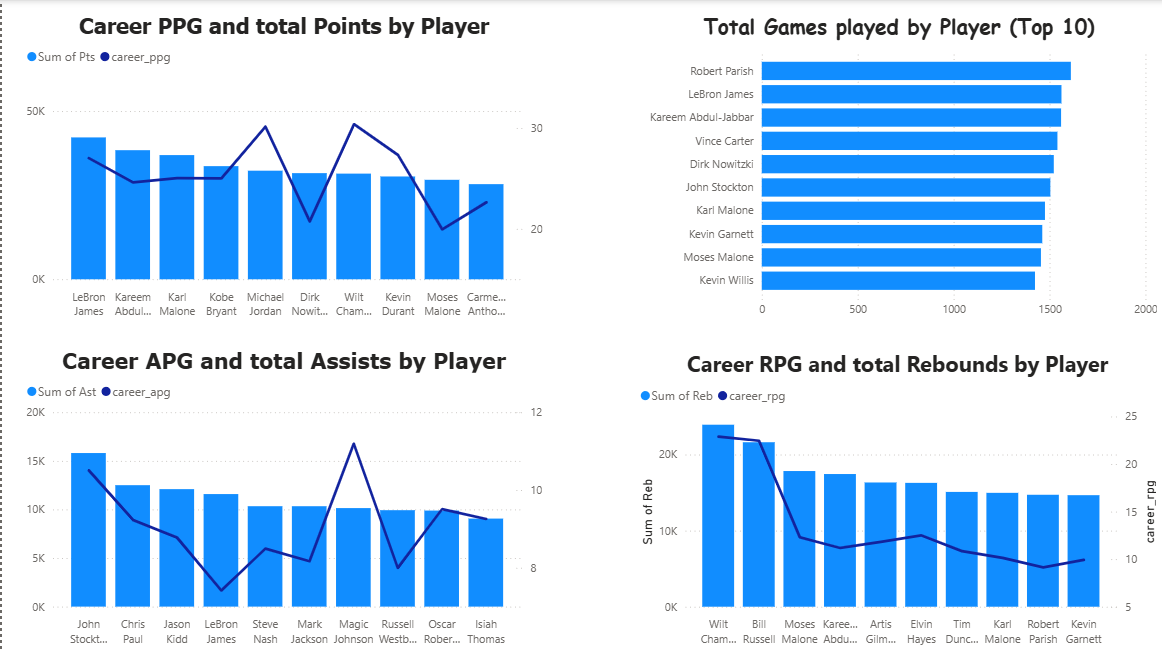

This screenshot's page, from the dashboard's own definition file:
{"tool":"powerbi","page":{"name":"Top 10 Player Comparison","canvas":[1280,720],"ordinal":2},"visuals":[{"type":"lineStackedColumnComboChart","title":"Career PPG and total Points by Player","fields":{"Y2":["_Measures.career_ppg"],"Y":["player_stats_updated.Pts"],"Category":["player_stats_updated.player"]},"box":[20.8,13.2,580.2,345.8],"z":0},{"type":"barChart","title":"Total Games played by Player (Top 10)","fields":{"Category":["player_stats_updated.player"],"Y":["player_stats_updated.games"]},"box":[700.7,13.3,579.8,346.2],"z":1000},{"type":"lineStackedColumnComboChart","title":"Career APG and total Assists by Player","fields":{"Category":["player_stats_updated.player"],"Y":["player_stats_updated.Ast"],"Y2":["_Measures.career_apg"]},"box":[21.5,384.3,579.8,336.3],"z":2000},{"type":"lineStackedColumnComboChart","title":"Career RPG and total Rebounds by Player","fields":{"Category":["player_stats_updated.player"],"Y2":["_Measures.career_rpg"],"Y":["player_stats_updated.Reb"]},"box":[699.2,383.6,580.2,336.4],"z":3000}]}

Visuals, with their boxes in screenshot pixels (x1, y1, x2, y2), scaled from the page's 1280x720 canvas onto the 1162x652 screenshot:
"Career PPG and total Points by Player" lineStackedColumnComboChart: (19,12,546,325)
"Total Games played by Player (Top 10)" barChart: (636,12,1161,326)
"Career APG and total Assists by Player" lineStackedColumnComboChart: (20,348,546,651)
"Career RPG and total Rebounds by Player" lineStackedColumnComboChart: (635,347,1161,651)
